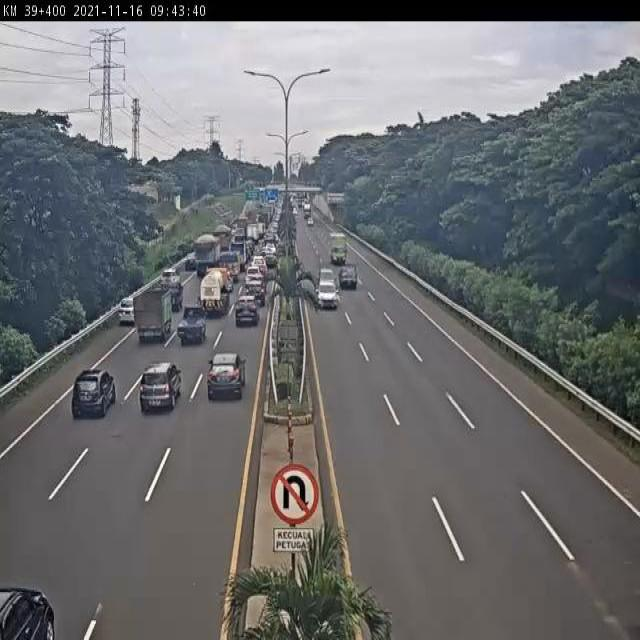car: (66, 365, 115, 424), (137, 359, 183, 416), (204, 350, 250, 406), (175, 304, 209, 349), (233, 293, 261, 328), (160, 280, 185, 313), (315, 281, 340, 311), (116, 295, 137, 328), (244, 279, 267, 308), (157, 264, 179, 289), (338, 265, 358, 291), (244, 265, 264, 288), (318, 266, 337, 290), (246, 275, 267, 293), (184, 253, 197, 275), (251, 253, 266, 272), (264, 251, 278, 268)
small truck: (133, 287, 178, 344), (218, 250, 242, 282), (327, 232, 348, 263)
truck-m-: (196, 265, 233, 320), (192, 234, 222, 278), (212, 223, 232, 252)
